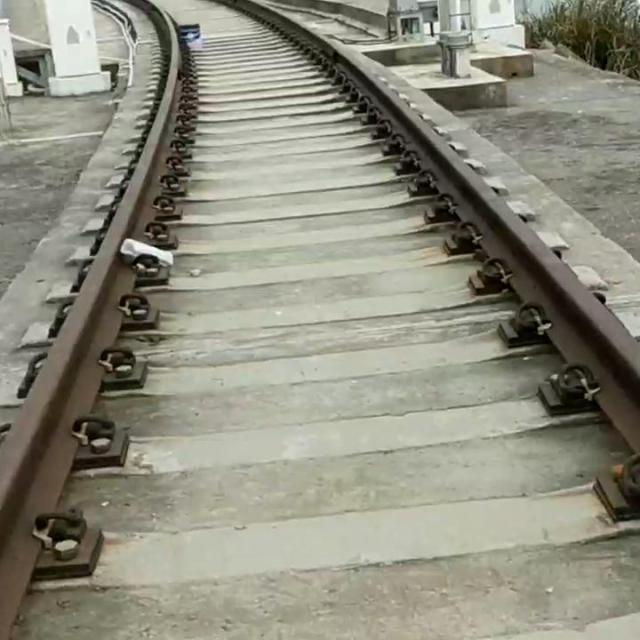rail: (219, 0, 640, 453), (0, 13, 180, 640)
